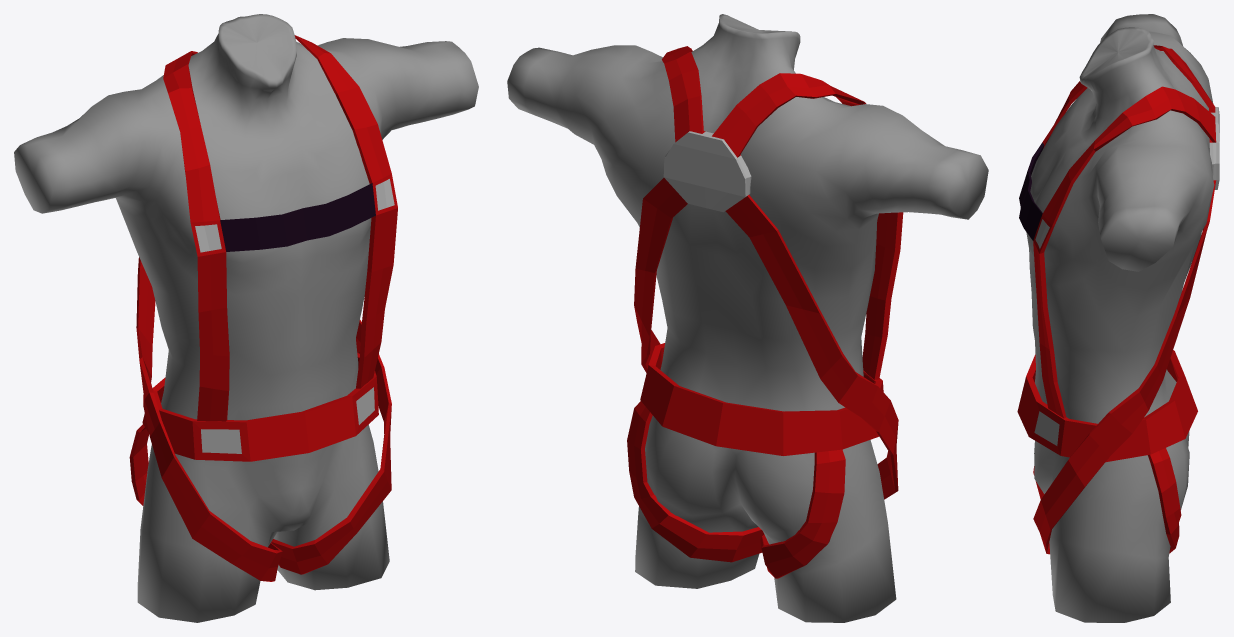
Rendered from Arnés_con_Torso.fbx.
3 views of the same model, side by side, from view 1: azimuth 30°, elevation 25°; view 2: azimuth 150°, elevation 25°; view 3: azimuth 270°, elevation 25° (orthographic). The views are drawn at different scales.
Visible parts, largest first — view 1: Torso.001, Arnès, Cinturòn; view 2: Torso.001, Arnès, Cinturòn; view 3: Torso.001, Arnès, Cinturòn.
Boxes of the visible parts, x1,y1,x2,y2 form: Torso.001: (14,14,478,622); Arnès: (129,35,397,581); Cinturòn: (142,353,378,461); Torso.001: (507,14,988,622); Arnès: (627,46,903,578); Cinturòn: (640,343,883,455); Torso.001: (1026,14,1214,622); Arnès: (1019,45,1219,554); Cinturòn: (1017,350,1197,462).
Size of the model in its own units: 71.01 by 87.08 by 30.2.
